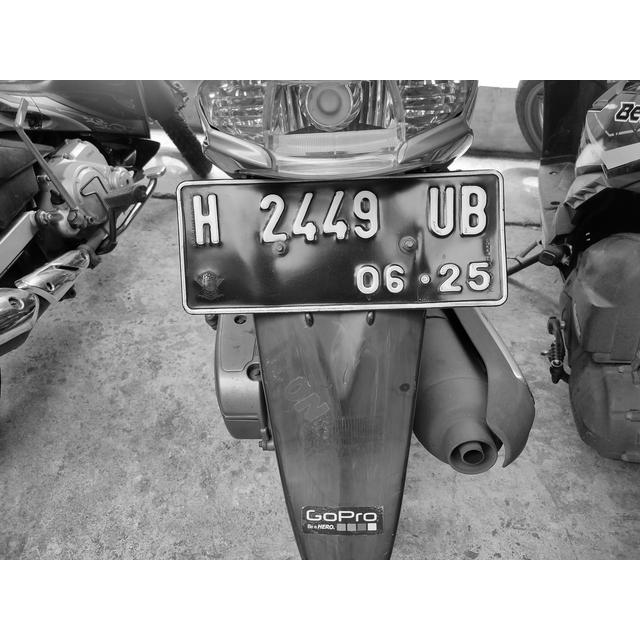license: (187, 183, 495, 295)
